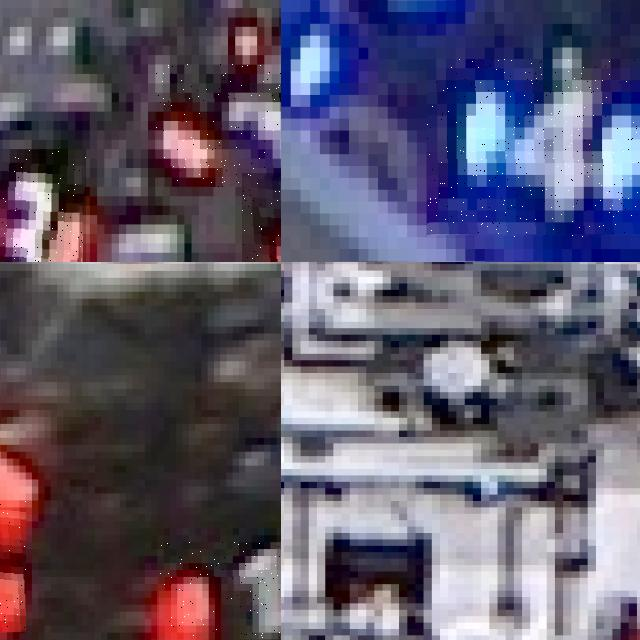B4: (426, 59, 640, 237)
R1: (157, 542, 281, 640)
R3: (155, 64, 281, 186), (0, 149, 86, 262)
